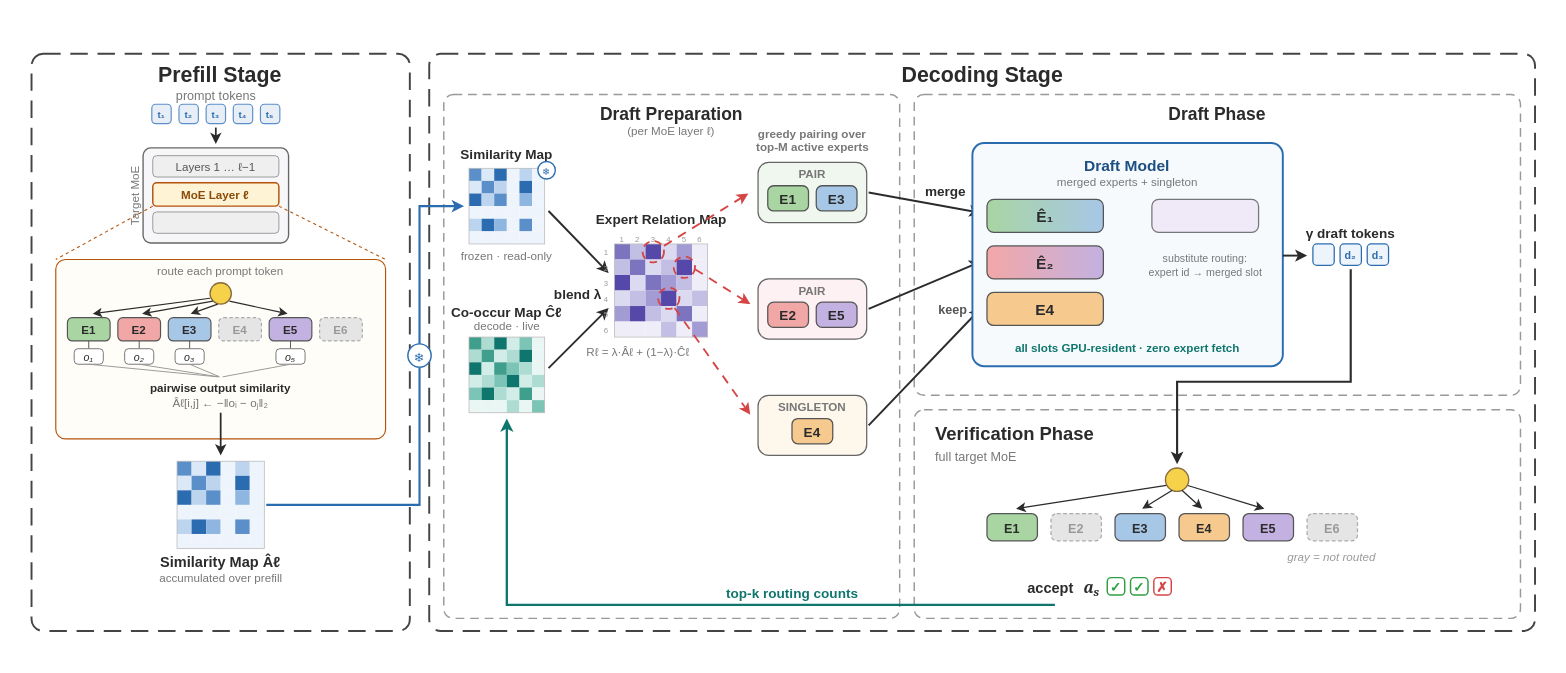
Some shapes in this 1566 by 673 pixel diagram are drawn without their labels. The shapes that lost their labels are listed below. From the top down, each one's centre as x and y in pixels, then its label:
At point 215,222: "Layers ℓ+1 … L".
At point 1205,215: "Ê₃ … Êₖ".
At point 1323,254: "d₁".
